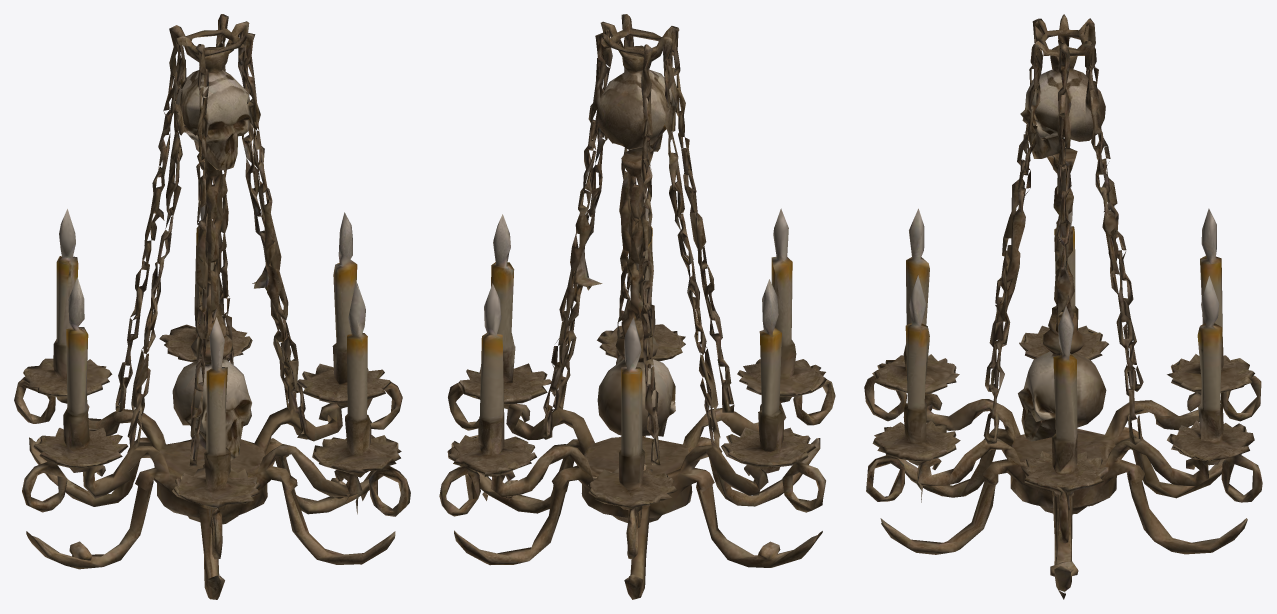
Rendered from chandelier.glb.
The picture shows the model from 3 angles, left to right: view 1: azimuth 30°, elevation 25°; view 2: azimuth 150°, elevation 25°; view 3: azimuth 270°, elevation 25°; orthographic projection. The views are drawn at different scales.
Visible parts, largest first — view 1: Mesh_0; view 2: Mesh_0; view 3: Mesh_0.
Part boxes in pixels (<box>): Mesh_0: <box>14,14,410,599</box>; Mesh_0: <box>439,14,835,599</box>; Mesh_0: <box>864,14,1262,599</box>.
Bounding box in the file's own units: 1.46 × 1.9 × 1.36.
Materials: 1 (1 with a texture image).
